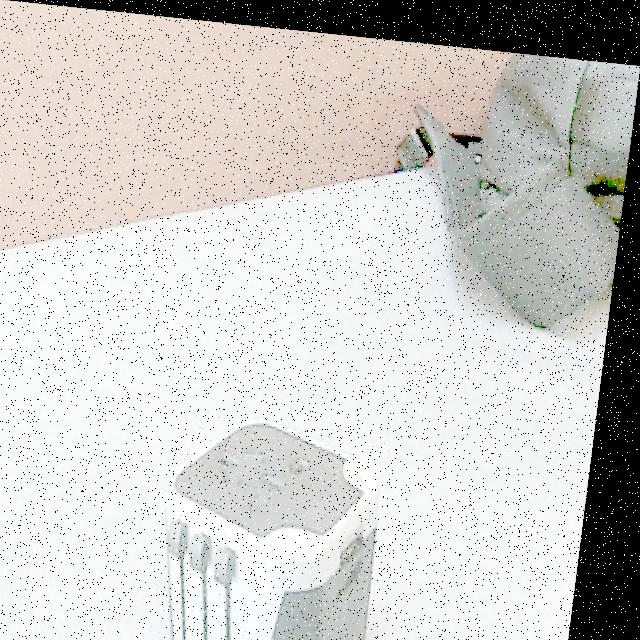adapter: (160, 402, 402, 640)
